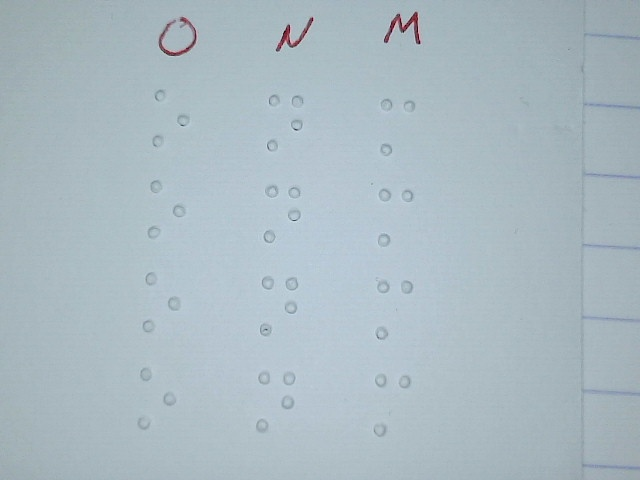M: (371, 372, 412, 437), (374, 278, 414, 339), (379, 95, 417, 156), (377, 187, 415, 248)
N: (259, 273, 299, 336), (256, 369, 296, 432), (266, 92, 304, 153), (263, 183, 301, 244)
O: (137, 365, 177, 430), (142, 270, 181, 333), (152, 87, 190, 148), (148, 179, 186, 240)
